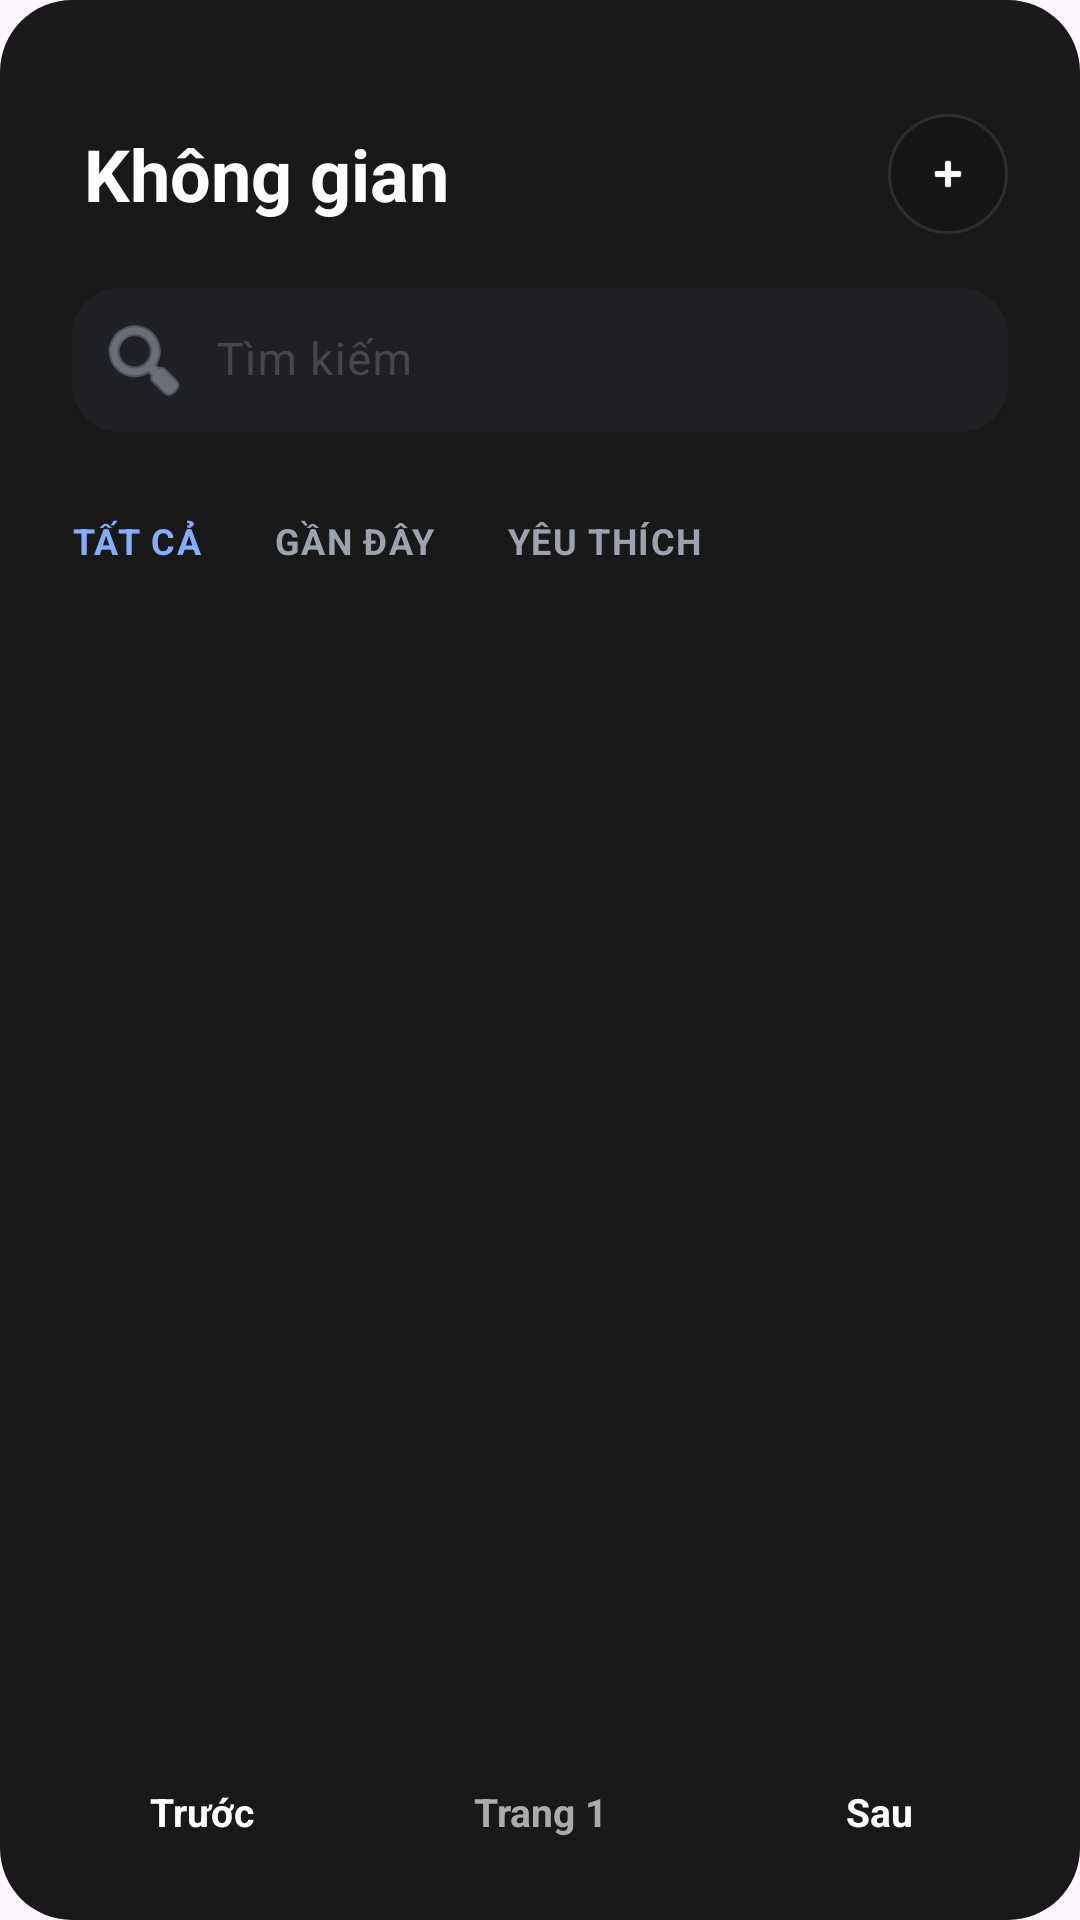

Locate icon controls on the screen. Image size 1080 × 1920, boxes as rect(x1, y1, x2, y2).
add: rect(934, 160, 962, 188)
